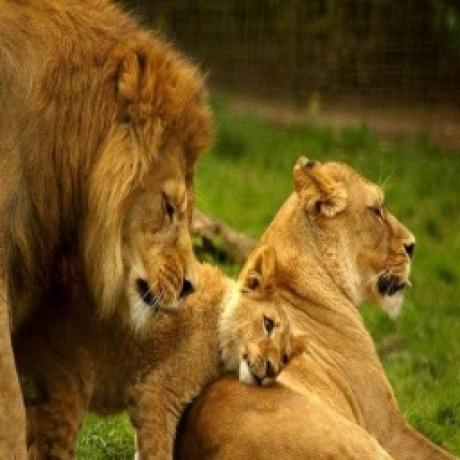Lion: (0, 0, 214, 460), (170, 151, 460, 460), (132, 244, 311, 460)
